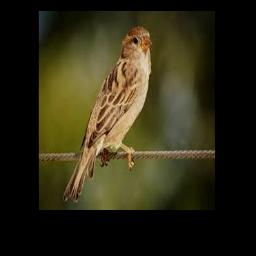Sparrow: (63, 26, 152, 202)
